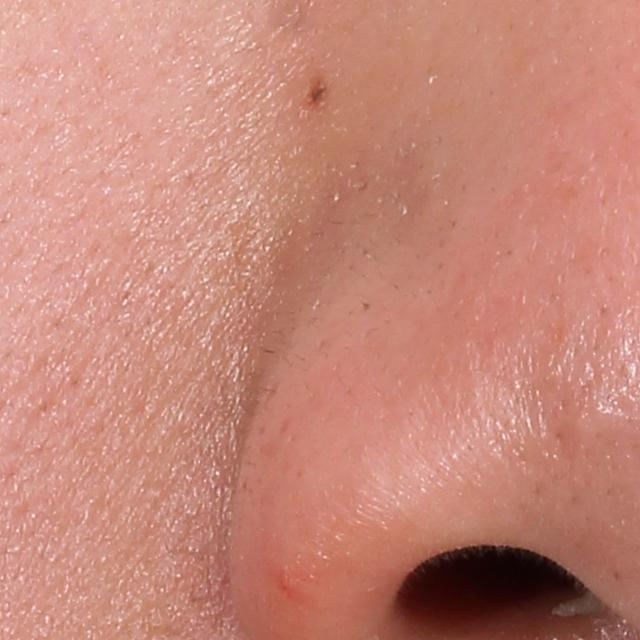nevus: (297, 74, 329, 116)
